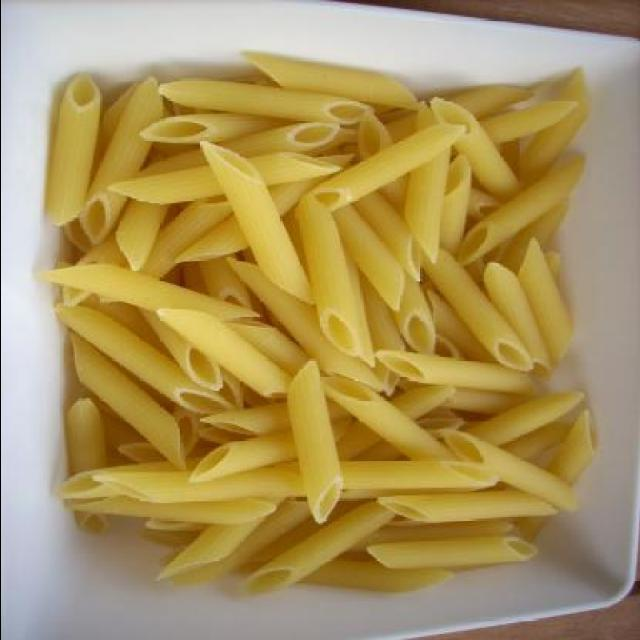Oil pasta: (24, 49, 590, 632)
